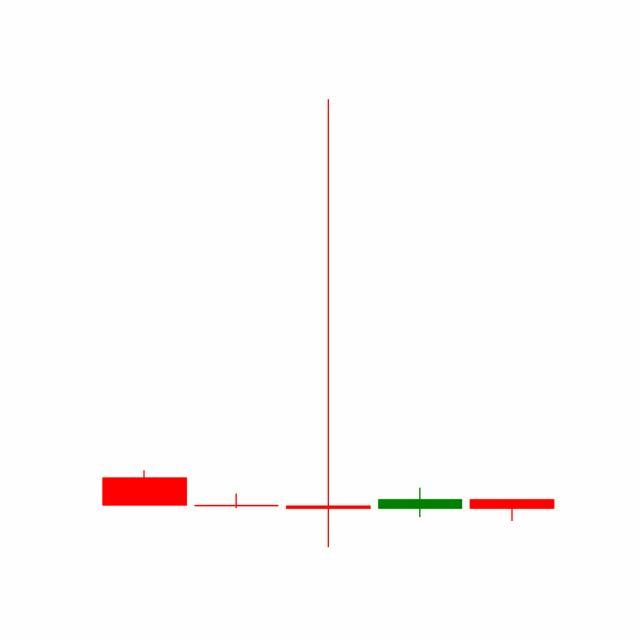Hammer: (466, 498, 559, 522)
